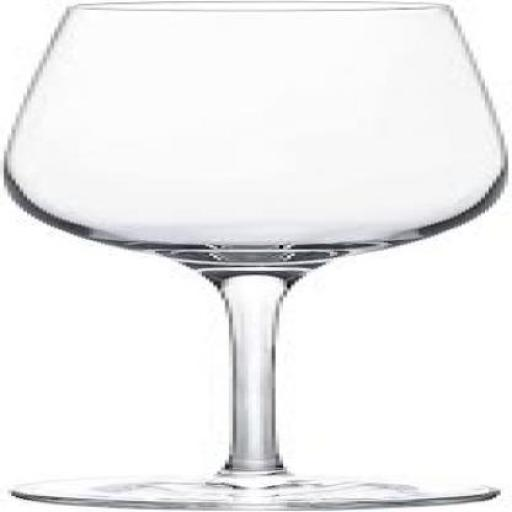glass: (3, 1, 512, 510)
